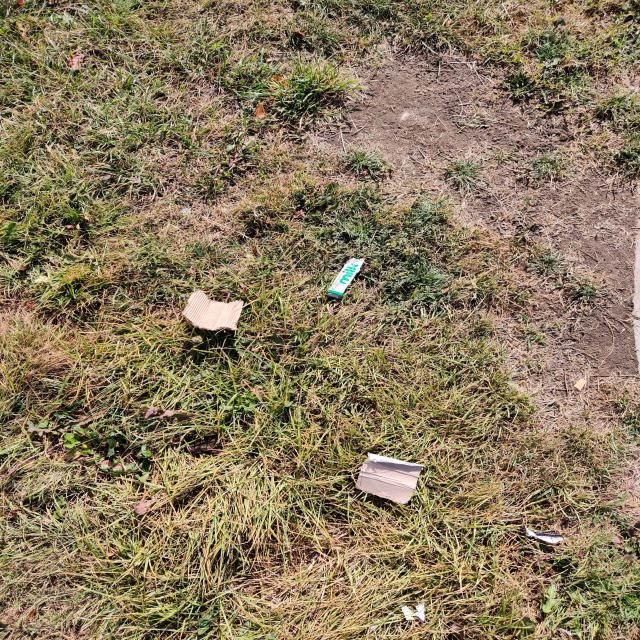litter: (360, 458, 416, 500), (333, 260, 355, 293)
